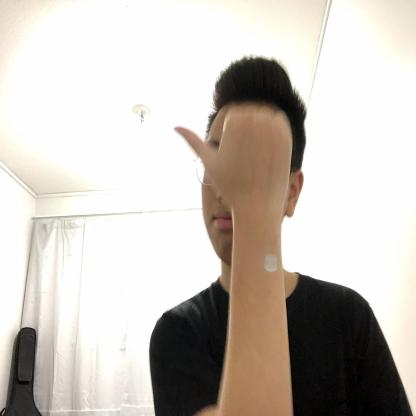right: (172, 102, 293, 215)
